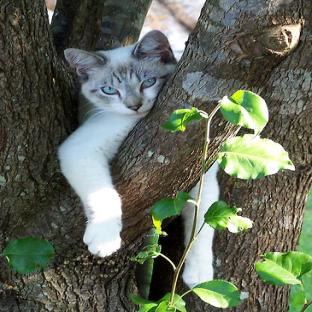Animal: (60, 31, 176, 257), (183, 224, 214, 287), (197, 163, 219, 230), (183, 203, 194, 243)
